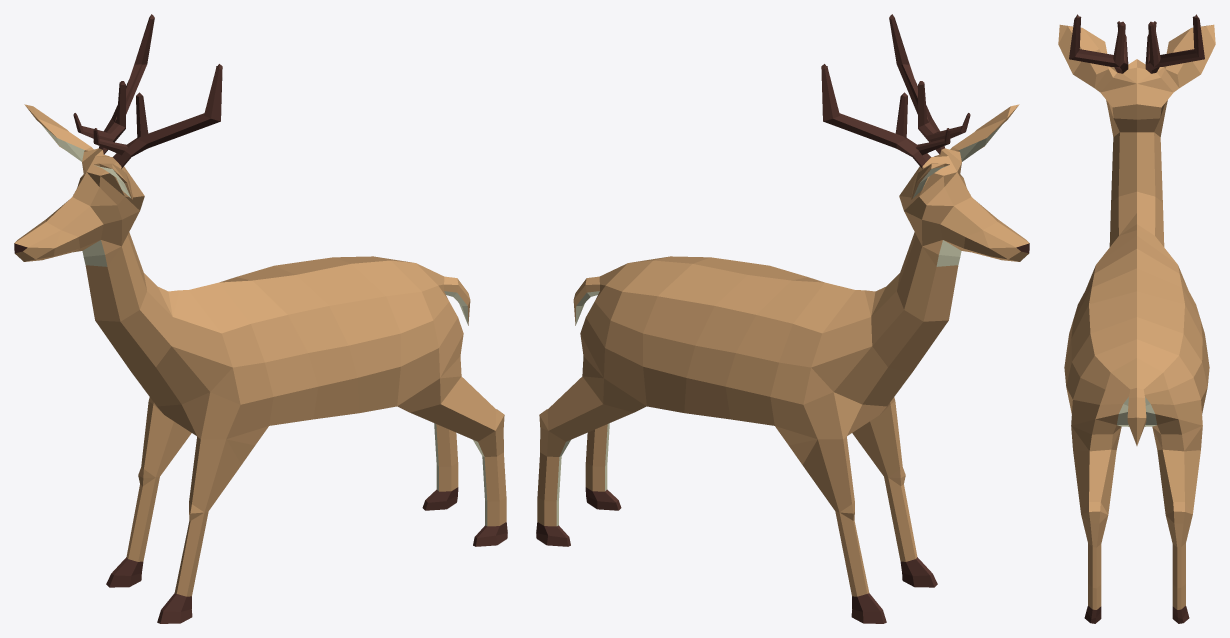
Rendered from f_deer.fbx.
3 renders of one model, left to right at view 1: azimuth 30°, elevation 25°; view 2: azimuth 150°, elevation 25°; view 3: azimuth 270°, elevation 25°, orthographic. The views are drawn at different scales.
Parts seen in each view (by area): view 1: Cylinder.002; view 2: Cylinder.002; view 3: Cylinder.002.
Part boxes in pixels (x1,y1,x2,y2): Cylinder.002: [14, 14, 507, 623]; Cylinder.002: [536, 14, 1029, 623]; Cylinder.002: [1058, 14, 1215, 623].
Size of the model in its own units: 150 by 170 by 50.
